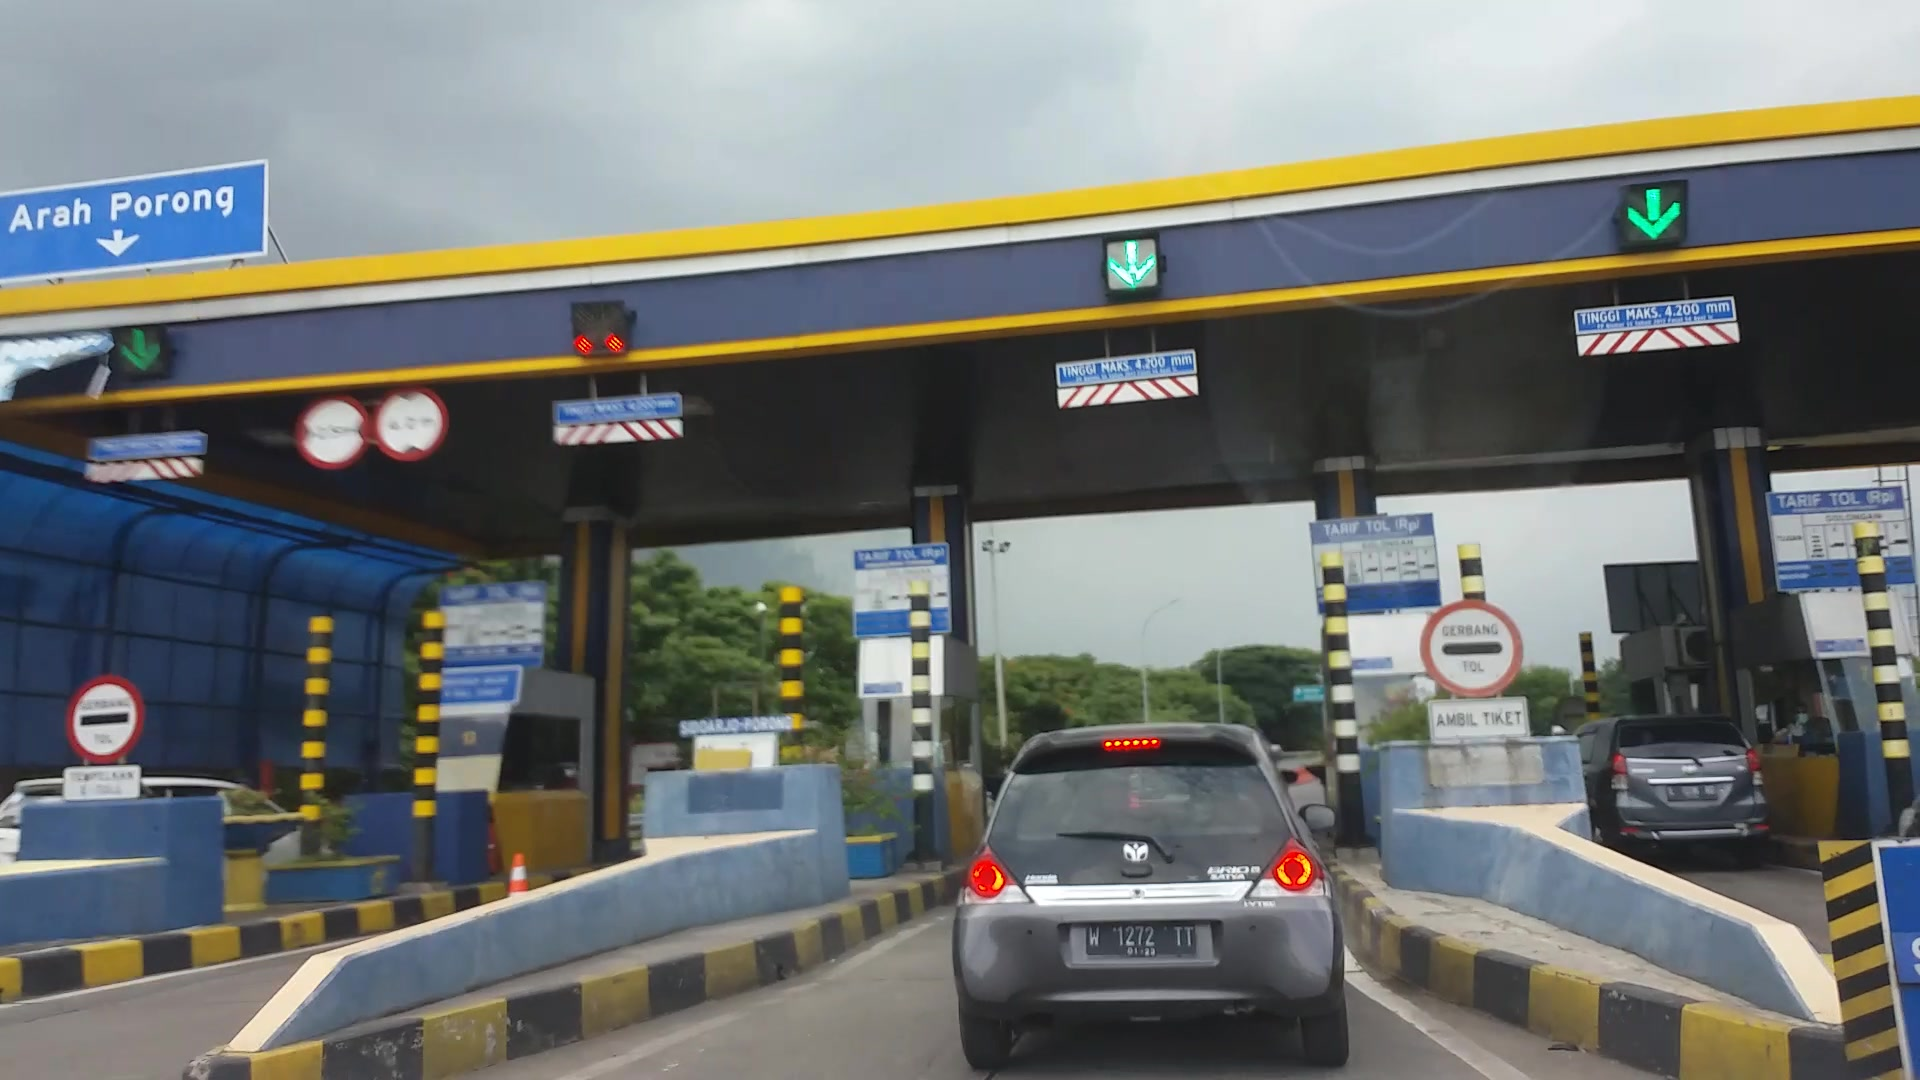plate_positive: (1087, 922, 1196, 957)
